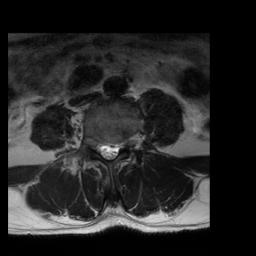CCS_normal: (105, 133, 112, 167)
LFS_normal: (119, 133, 127, 156)
LLS_normal: (112, 133, 119, 163)
RFS_normal: (91, 129, 98, 157)
RLS_normal: (98, 135, 105, 162)
